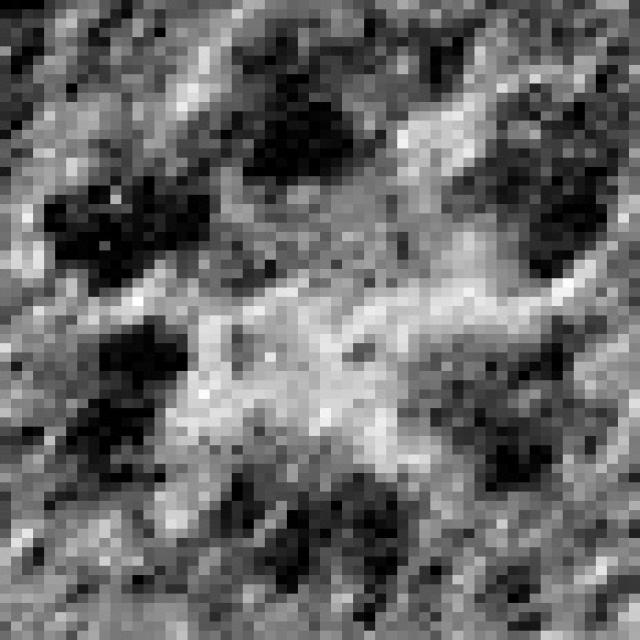inner: (184, 173, 457, 405)
lobe: (191, 428, 433, 629), (446, 48, 640, 290), (401, 303, 621, 506), (194, 17, 395, 202), (36, 316, 202, 519), (35, 155, 220, 301)
outer: (0, 0, 640, 640)
